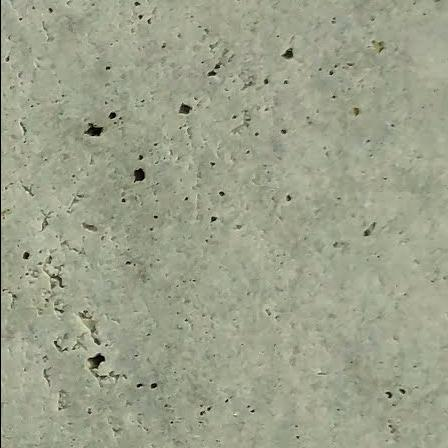spalling: (81, 350, 113, 392)
